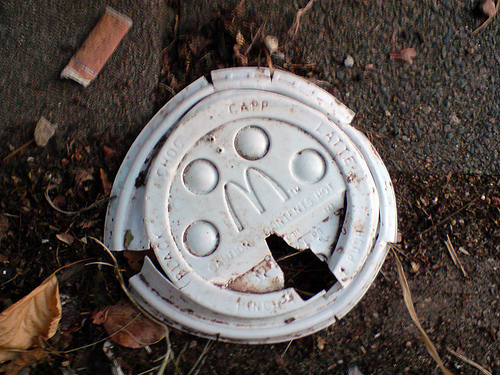litter: (104, 63, 396, 343), (60, 7, 128, 79)
